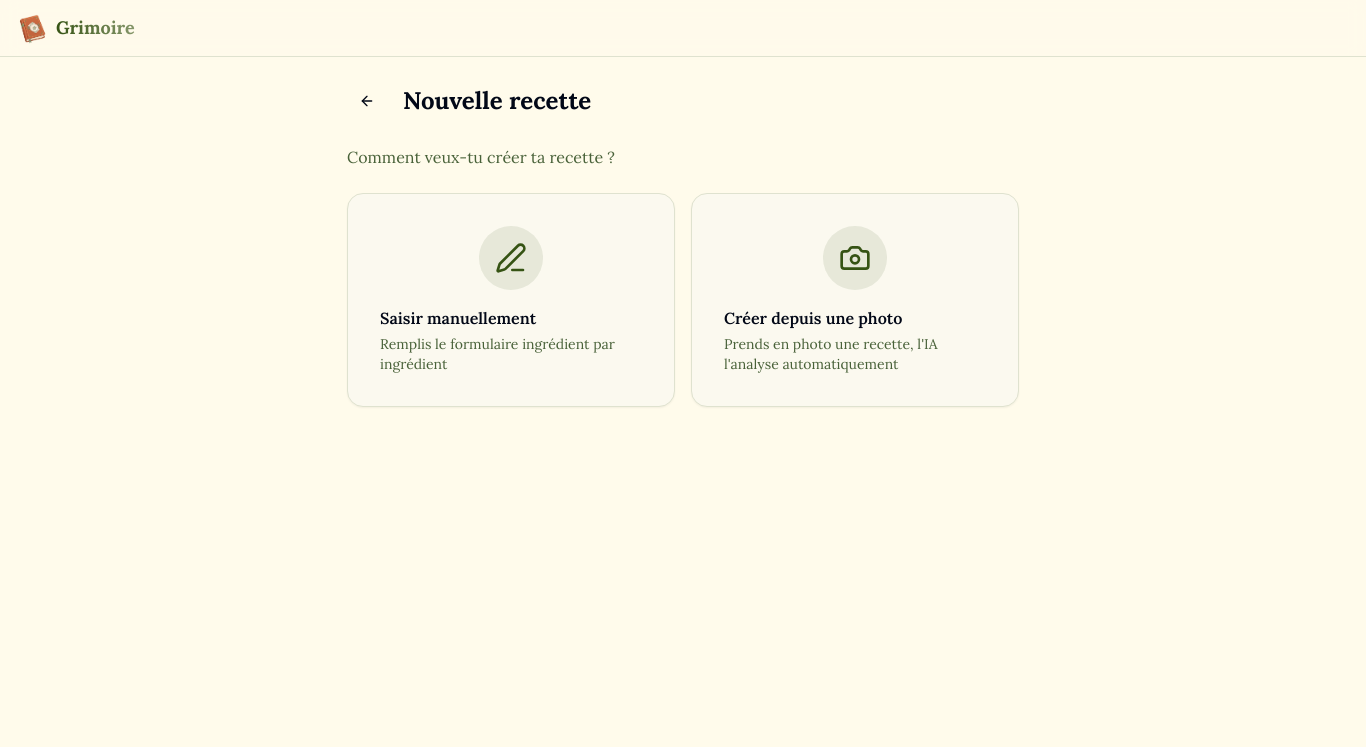
Test: RecipeNew › affiche les sections repliables en mode manuel
The width and height of the screenshot is (1366, 747).
Click the text "Saisir manuellement" at (458, 318), box left=380, top=308, right=536, bottom=328
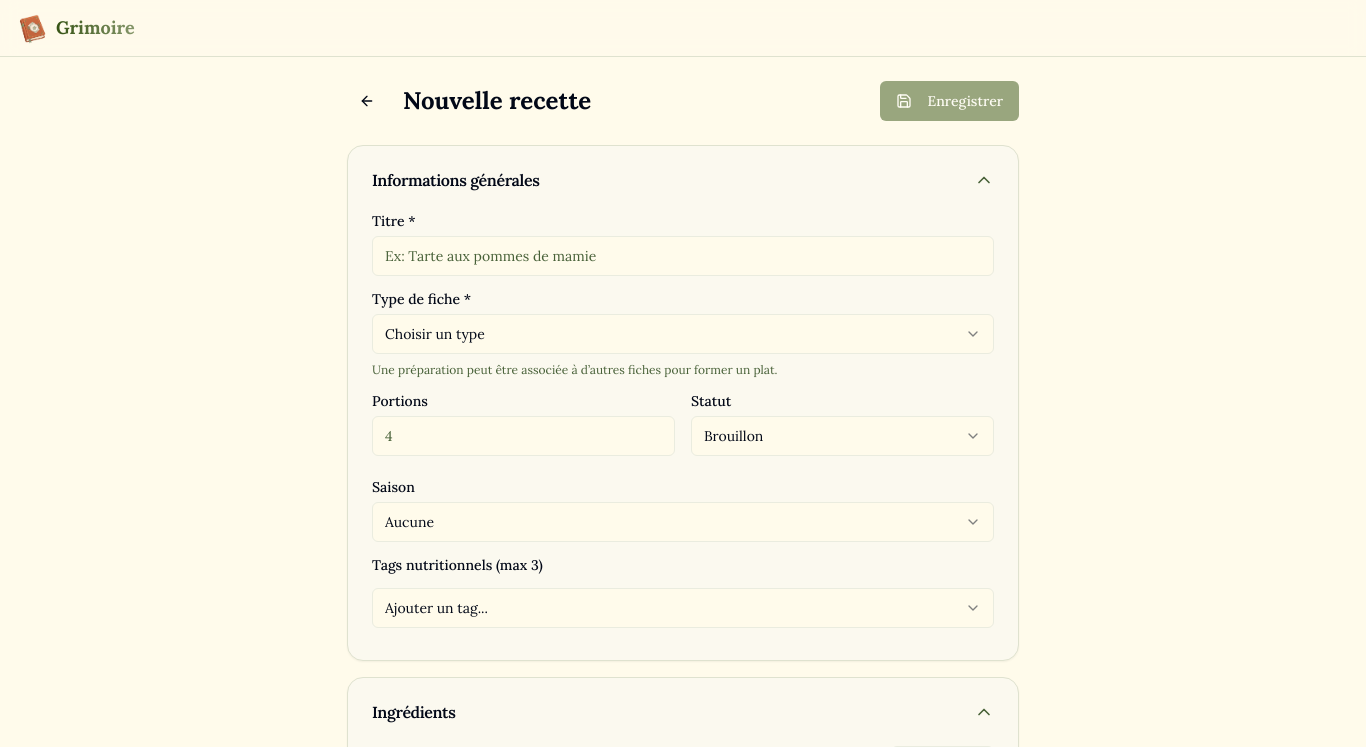
Result: the text "Informations générales" is shown at left=372, top=172, right=539, bottom=188
Result: the text "Ingrédients" is shown at left=372, top=704, right=455, bottom=720
Result: the field labelled "Titre *" is shown at left=372, top=236, right=994, bottom=276
